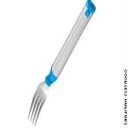Fork: (23, 1, 99, 128)
